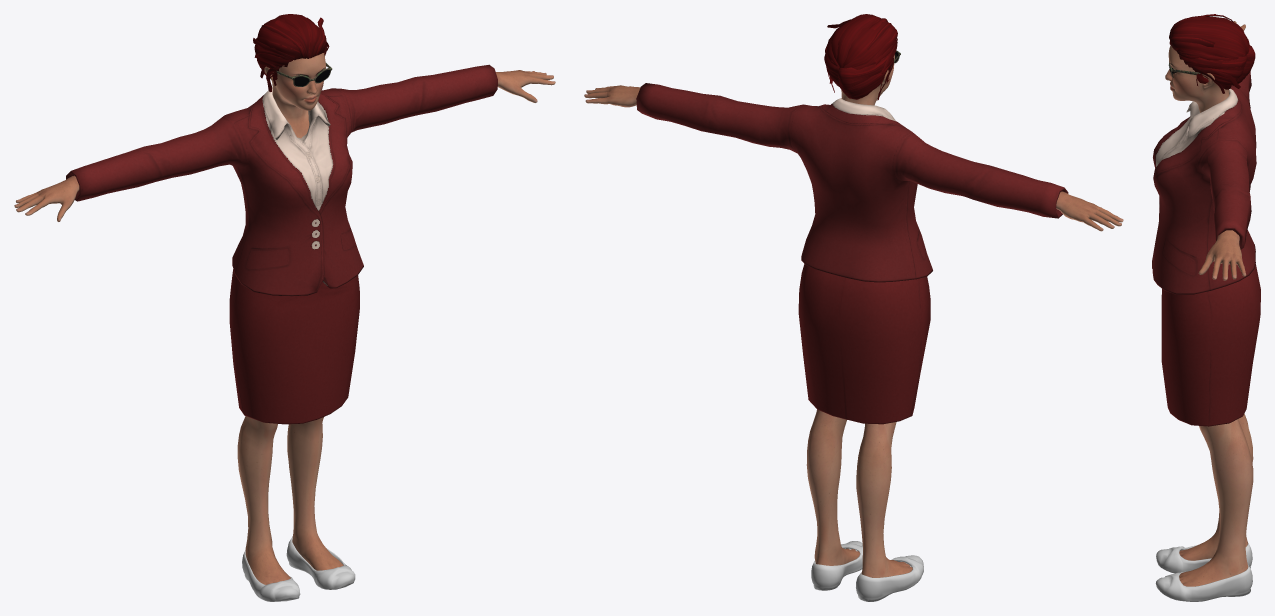
Rendered from Woman1.obj.
3 renders of one model, left to right at view 1: azimuth 30°, elevation 25°; view 2: azimuth 150°, elevation 25°; view 3: azimuth 270°, elevation 25°, orthographic.
Visible parts, largest first — view 1: Tops, Bottoms, Body, Hair, Shoes; view 2: Tops, Bottoms, Body, Hair, Shoes; view 3: Tops, Bottoms, Body, Hair, Shoes.
Part boxes in pixels (x1,y1,x2,y2): Tops: (66, 64, 497, 296); Bottoms: (229, 269, 359, 424); Body: (14, 53, 555, 584); Hair: (253, 14, 329, 91); Shoes: (242, 537, 355, 601); Tops: (636, 83, 1068, 282); Bottoms: (798, 264, 930, 424); Body: (584, 55, 1123, 577); Hair: (824, 14, 897, 100); Shoes: (811, 541, 923, 601); Tops: (1152, 71, 1256, 294); Bottoms: (1161, 264, 1260, 426); Body: (1165, 21, 1253, 586); Hair: (1169, 14, 1255, 93); Shoes: (1155, 543, 1252, 601).
Bounding box in the file's own units: 179 × 179 × 31.47.
